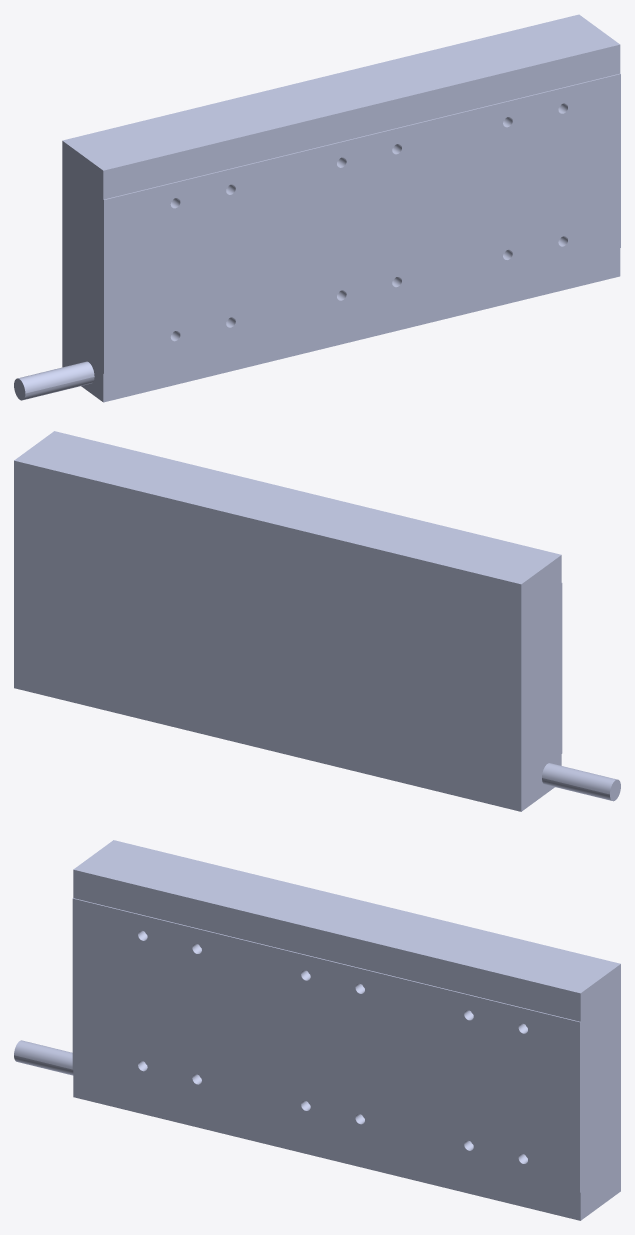
Rendered from MTK-12.glb.
The picture shows the model from 3 angles, top to bottom: view 1: azimuth 30°, elevation 25°; view 2: azimuth 150°, elevation 25°; view 3: azimuth 330°, elevation 25°; orthographic projection.
Parts seen in each view (by area): view 1: MTK-12_node_1; view 2: MTK-12_node_1; view 3: MTK-12_node_1.
Boxes of the visible parts, x1,y1,x2,y2 form: MTK-12_node_1: (14,14,620,402); MTK-12_node_1: (14,431,620,811); MTK-12_node_1: (14,840,620,1220).
Bounding box in the file's own units: 254 × 96 × 31.4.
